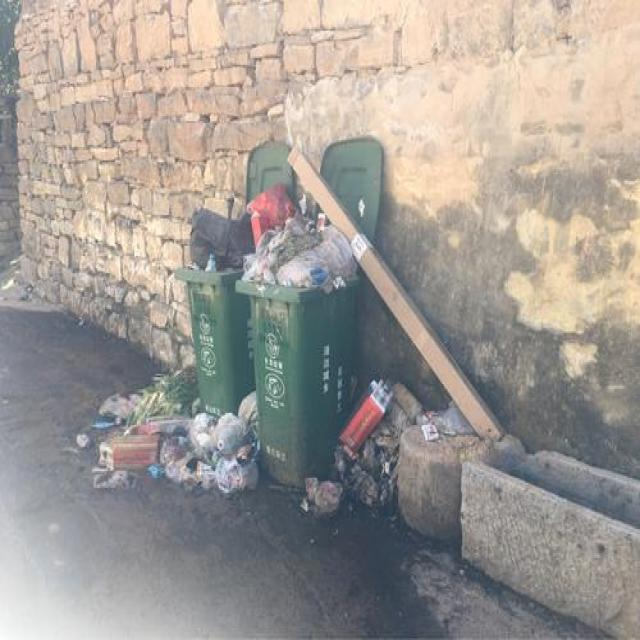garbage: (72, 359, 258, 488), (298, 376, 472, 508)
overflow: (233, 183, 358, 487), (172, 205, 252, 408)
